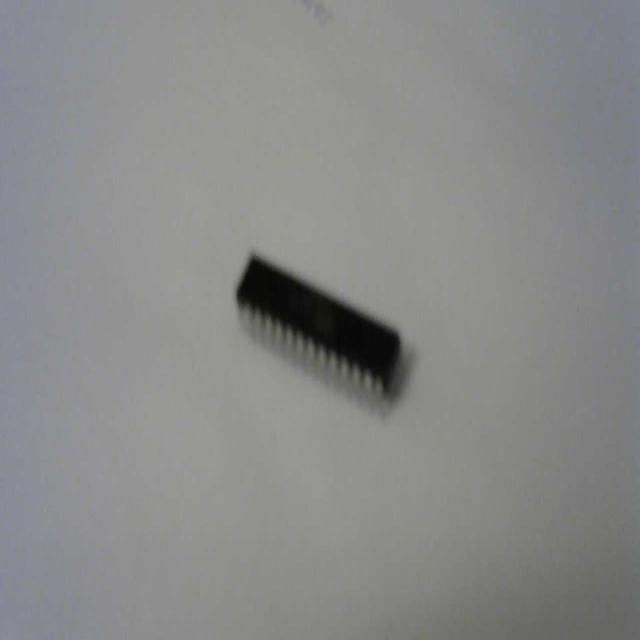atmega: (233, 247, 404, 406)
